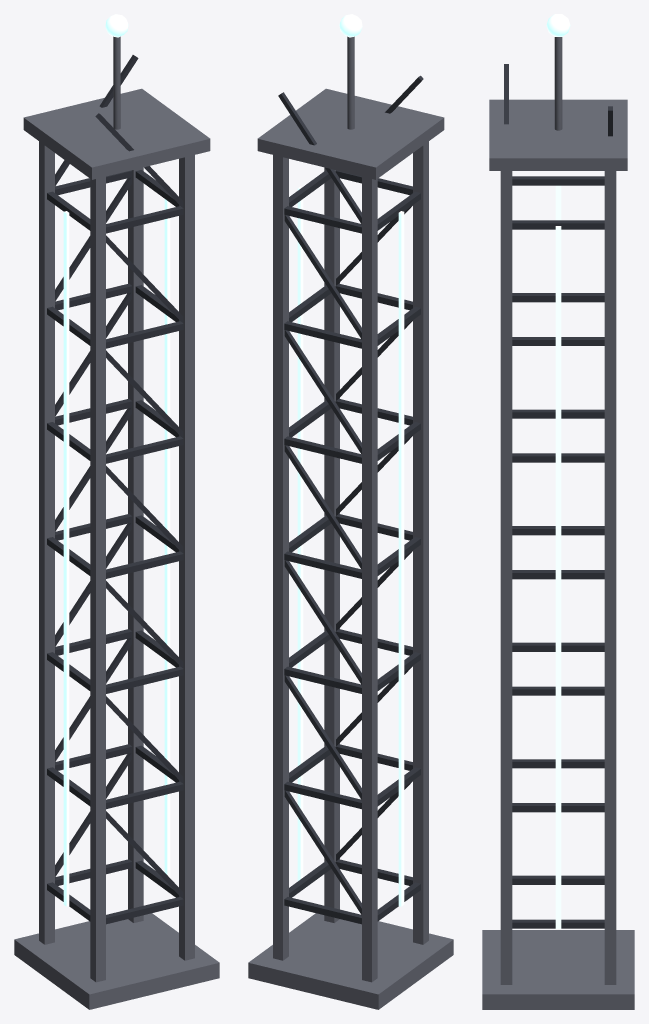
File: prop-truss.glb
The picture shows the model from 3 angles, left to right: view 1: azimuth 30°, elevation 25°; view 2: azimuth 150°, elevation 25°; view 3: azimuth 270°, elevation 25°; orthographic projection.
Parts seen in each view (by area): view 1: 立柱3, 立柱1, 立柱2, 底座, 顶盘, 立柱0, 光带B, 光带A, 横梁3B, 横梁1B, 横梁5B, 横梁0B (+26 smaller); view 2: 立柱2, 立柱0, 立柱3, 底座, 顶盘, 立柱1, 光带B, 光带A, 斜撑1A, 斜撑3A, 斜撑5A, 斜撑0A (+26 smaller); view 3: 底座, 立柱0, 立柱1, 顶盘, 光带A, 横梁6D, 横梁6C, 横梁0C, 横梁0D, 横梁1C, 横梁1D, 横梁2C (+9 smaller).
Part boxes in pixels (x1,y1,x2,y2): 立柱3: (90, 176, 105, 982); 立柱1: (179, 155, 194, 960); 立柱2: (39, 141, 54, 944); 底座: (14, 913, 219, 1009); 顶盘: (23, 88, 210, 179); 立柱0: (128, 167, 143, 922); 光带B: (63, 211, 69, 906); 光带A: (164, 199, 170, 877); 横梁3B: (106, 551, 183, 578); 横梁1B: (106, 781, 183, 809); 横梁5B: (106, 321, 183, 348); 横梁0B: (106, 897, 183, 924); 立柱2: (362, 176, 377, 982); 立柱0: (273, 155, 288, 960); 立柱3: (413, 141, 428, 944); 底座: (248, 913, 453, 1009); 顶盘: (257, 88, 444, 179); 立柱1: (324, 167, 339, 922); 光带B: (398, 211, 404, 906); 光带A: (297, 186, 303, 880); 斜撑1A: (284, 675, 361, 799); 斜撑3A: (284, 445, 361, 569); 斜撑5A: (284, 215, 361, 339); 斜撑0A: (284, 790, 361, 915); 底座: (482, 930, 634, 1009); 立柱0: (604, 171, 616, 984); 立柱1: (500, 171, 512, 984); 顶盘: (489, 99, 627, 170); 光带A: (555, 226, 561, 928); 横梁6D: (512, 176, 604, 185); 横梁6C: (512, 220, 604, 229); 横梁0C: (512, 919, 604, 928); 横梁0D: (512, 875, 604, 884); 横梁1C: (512, 803, 604, 812); 横梁1D: (512, 759, 604, 768); 横梁2C: (512, 686, 604, 695).
Size of the model in its own units: 4.4 by 30.7 by 4.4.
